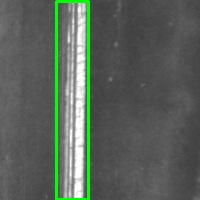scratches: (56, 1, 88, 199)
